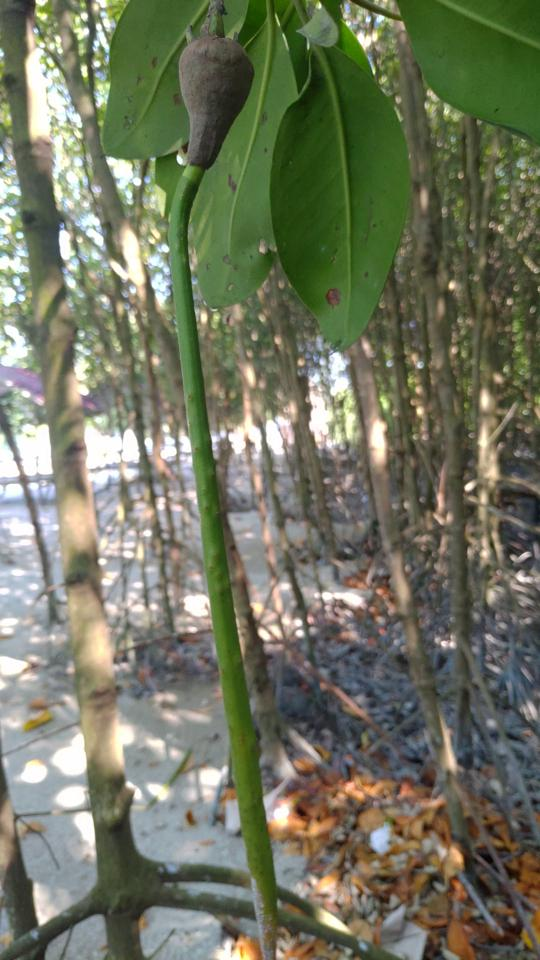setengah matang: (161, 19, 297, 959)
